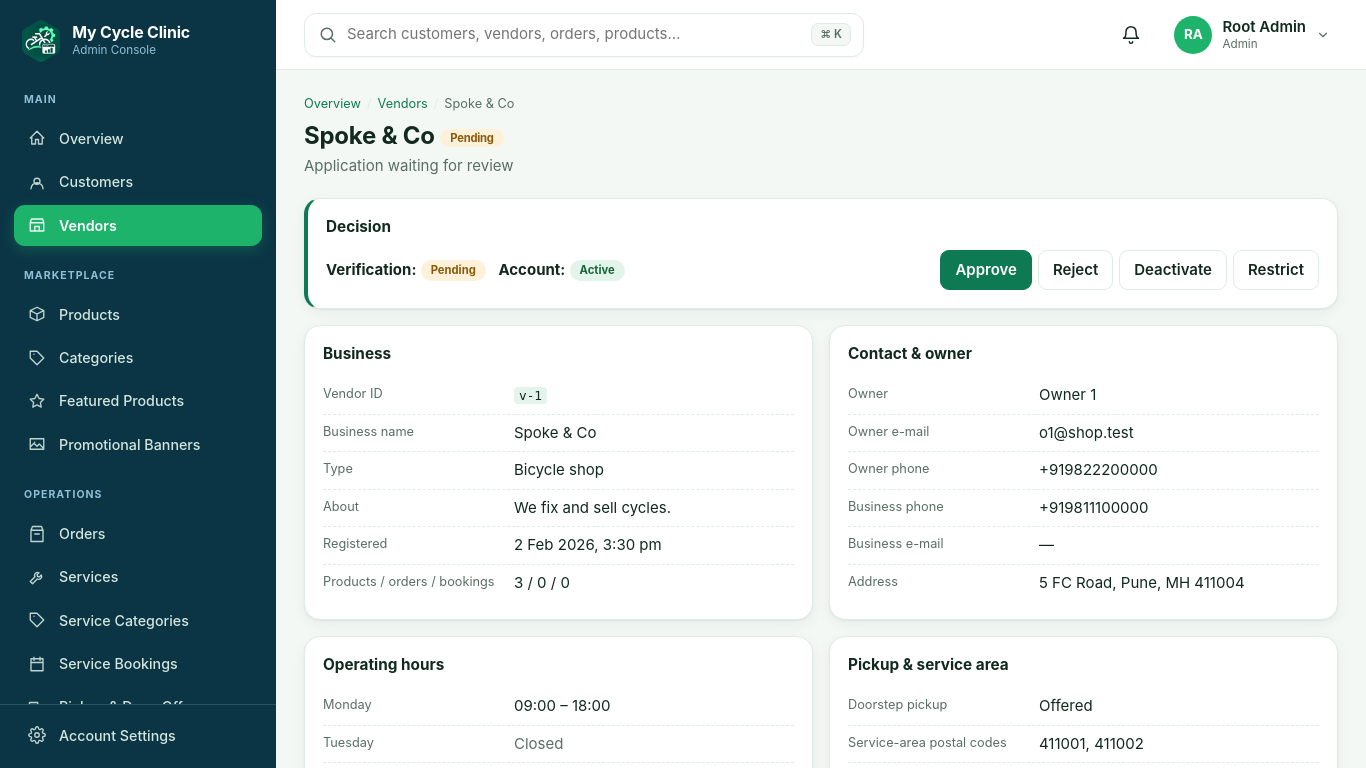
Test: vendor application review (detail) › approving from the detail page refreshes the decision panel from the backend
Expected: the heading "Spoke & Co Pending" is shown, [304,121,514,151]
Step 1. Click the button "Approve" → [986, 270], box [940,250,1032,290]
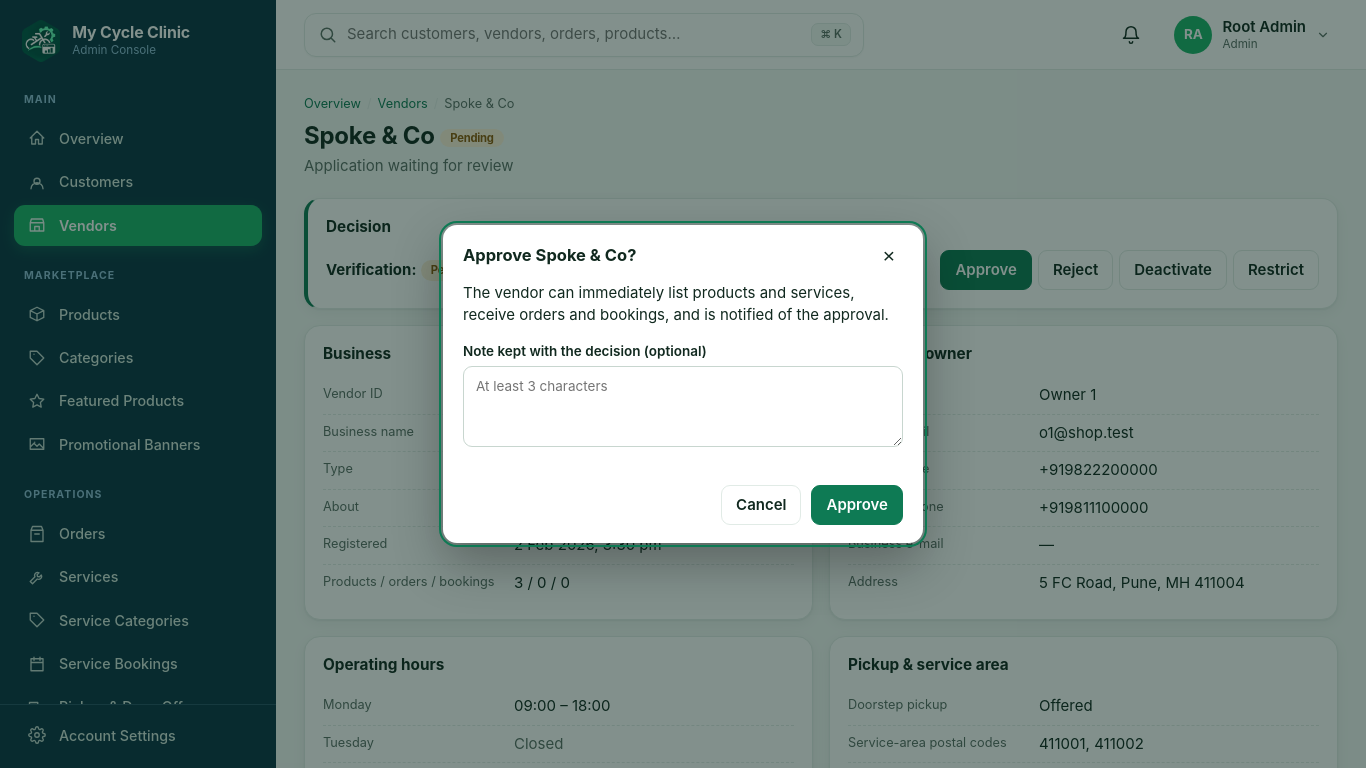
Step 2. Click the button "Approve" below "Note kept with the decision (optional)" → [857, 505], box [812,485,903,525]
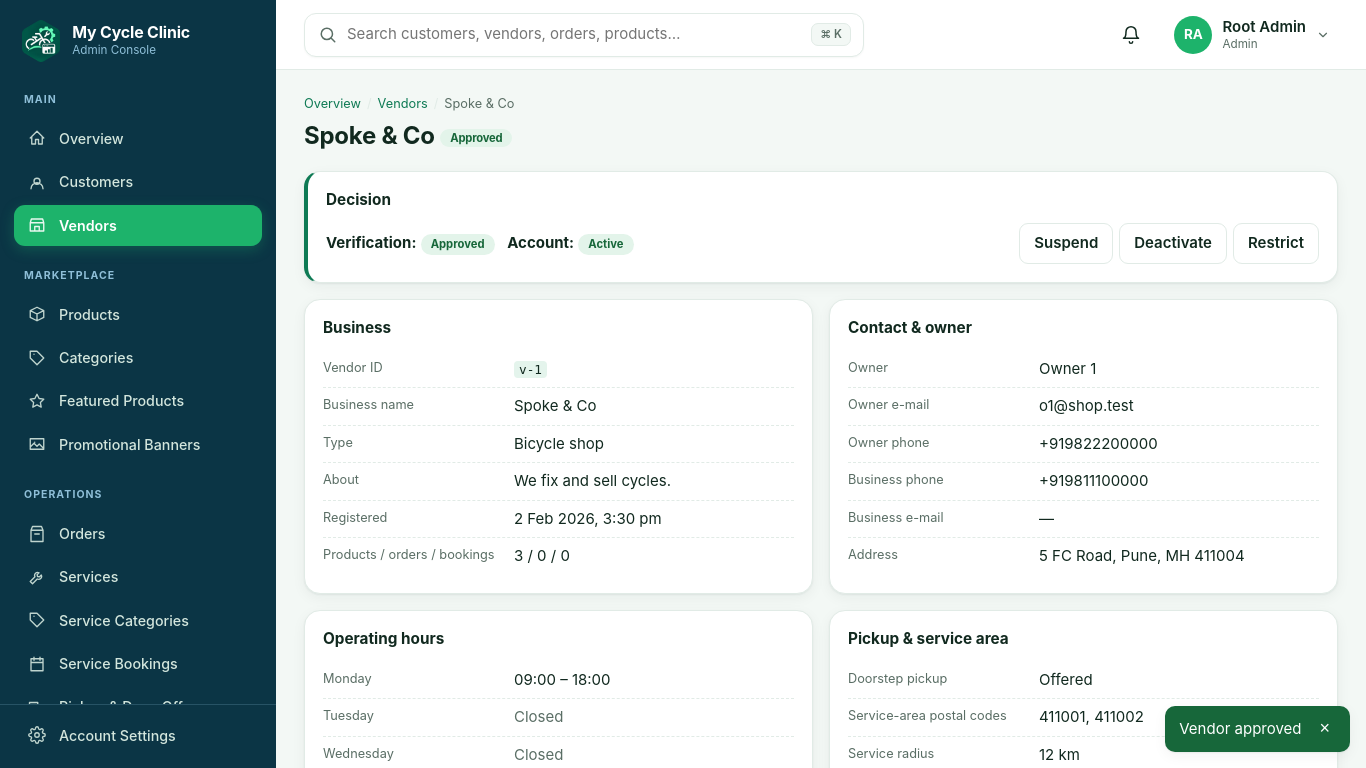
Now the button "Suspend" is shown, box [1019,223,1113,264]
